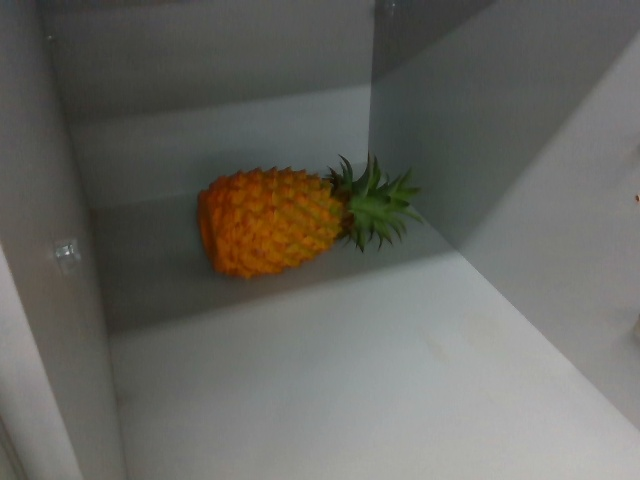pineapple: (194, 155, 423, 277)
